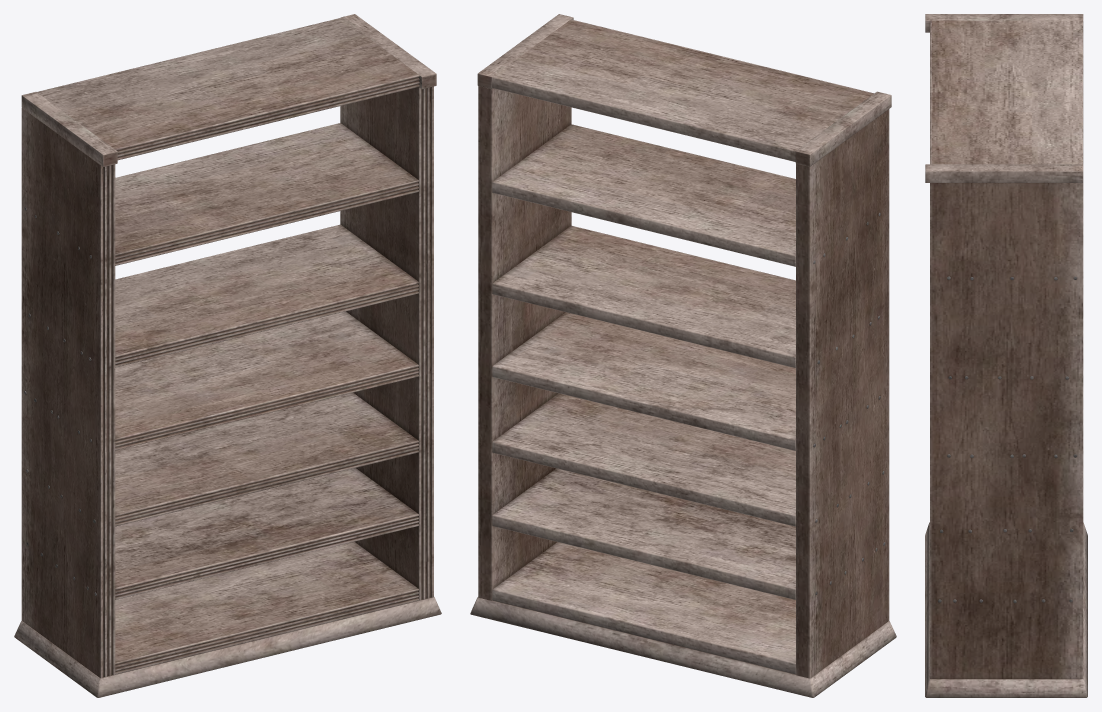
The model's file is wooden_bookshelf_worn.glb.
The picture shows the model from 3 angles, left to right: view 1: azimuth 30°, elevation 25°; view 2: azimuth 150°, elevation 25°; view 3: azimuth 270°, elevation 25°; orthographic projection. The views are drawn at different scales.
Parts seen in each view (by area): view 1: wooden_bookshelf_worn; view 2: wooden_bookshelf_worn; view 3: wooden_bookshelf_worn.
Boxes of the visible parts, <box> form: wooden_bookshelf_worn: <box>14,14,441,697</box>; wooden_bookshelf_worn: <box>470,14,896,697</box>; wooden_bookshelf_worn: <box>925,14,1087,697</box>.
Size of the model in its own units: 1.37 by 2.06 by 0.5814.
1 material, 1 textured.
